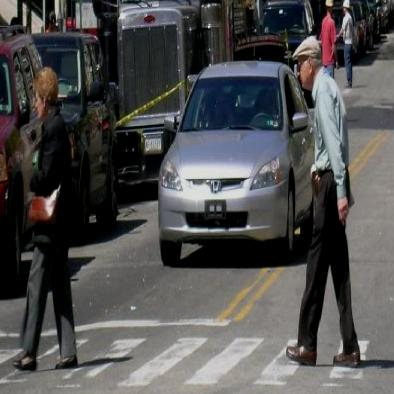ped: (288, 37, 361, 368), (13, 68, 78, 370)
